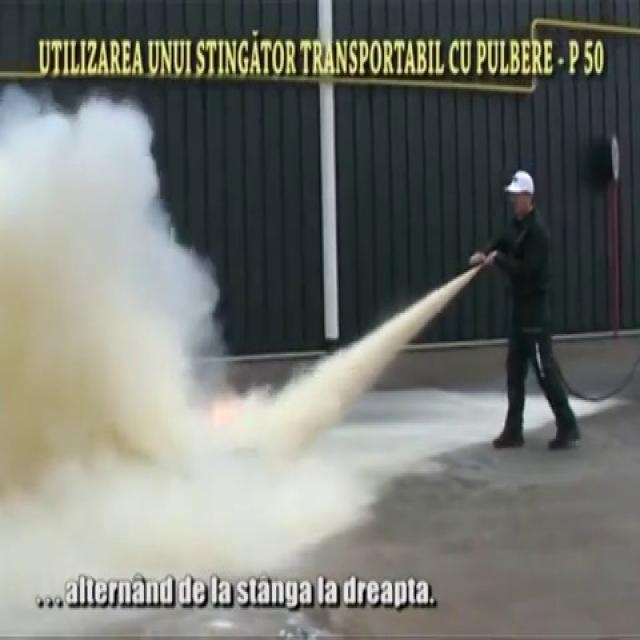Smoke: (0, 2, 287, 570)
